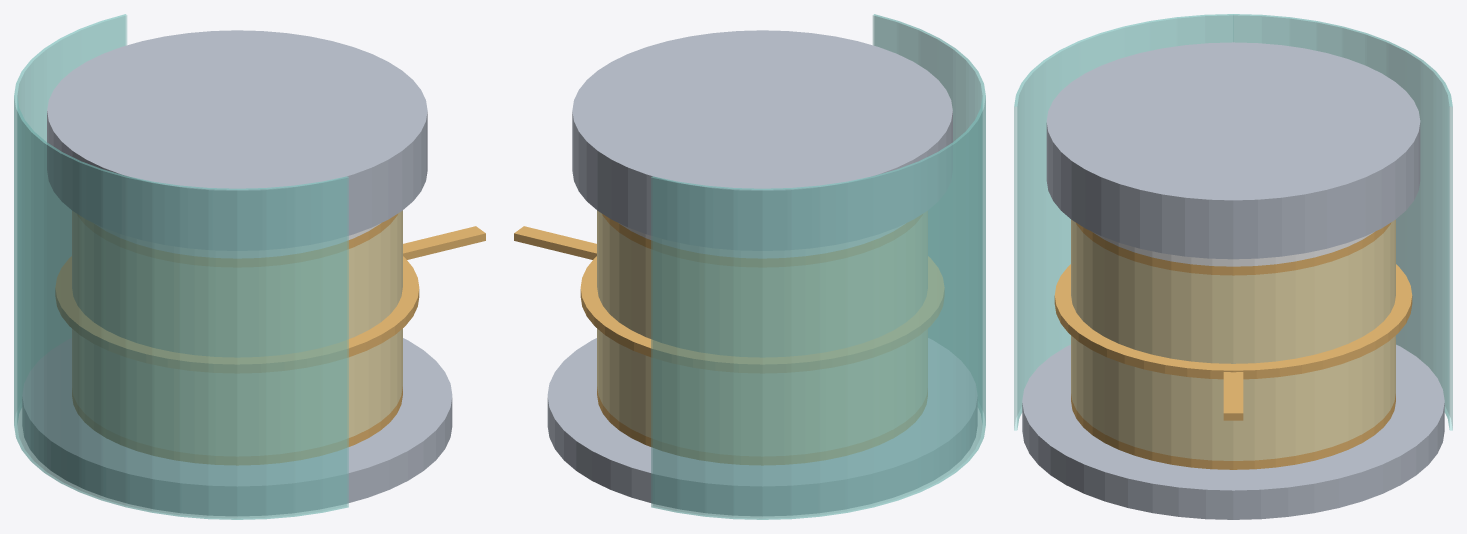
File: piezo_sensor.glb
The picture shows the model from 3 angles, left to right: view 1: azimuth 30°, elevation 25°; view 2: azimuth 150°, elevation 25°; view 3: azimuth 270°, elevation 25°; orthographic projection.
Visible parts, largest first — view 1: housing_half, seismic_mass, piezo_disc_2, base, piezo_disc_1, centre_electrode, bottom_electrode, top_electrode, insulator, output_lead; view 2: housing_half, seismic_mass, piezo_disc_2, base, piezo_disc_1, centre_electrode, bottom_electrode, top_electrode, insulator, output_lead; view 3: seismic_mass, housing_half, piezo_disc_2, base, piezo_disc_1, centre_electrode, bottom_electrode, top_electrode, insulator, output_lead.
Part boxes in pixels (box(x1,y1,x2,y2)): housing_half: box(14, 14, 348, 519); seismic_mass: box(47, 30, 427, 250); piezo_disc_2: box(72, 210, 402, 357); base: box(22, 338, 452, 515); piezo_disc_1: box(72, 328, 402, 456); centre_electrode: box(55, 256, 419, 373); bottom_electrode: box(72, 387, 402, 465); top_electrode: box(77, 214, 397, 267); insulator: box(96, 223, 380, 258); output_lead: box(403, 226, 485, 259); housing_half: box(651, 14, 985, 519); seismic_mass: box(572, 30, 952, 250); piezo_disc_2: box(597, 210, 927, 357); base: box(547, 338, 977, 515); piezo_disc_1: box(597, 328, 927, 456); centre_electrode: box(580, 256, 944, 373); bottom_electrode: box(597, 387, 927, 465); top_electrode: box(602, 214, 922, 267); insulator: box(619, 223, 903, 258); output_lead: box(514, 226, 596, 259); seismic_mass: box(1046, 42, 1420, 259); housing_half: box(1014, 14, 1452, 430); piezo_disc_2: box(1071, 219, 1395, 363); base: box(1022, 344, 1444, 519); piezo_disc_1: box(1071, 335, 1395, 460); centre_electrode: box(1054, 264, 1412, 379); bottom_electrode: box(1071, 394, 1395, 469); top_electrode: box(1075, 222, 1391, 275); insulator: box(1093, 232, 1373, 266); output_lead: box(1223, 372, 1243, 420).
Bounding box in the file's own units: 0.305 × 0.22 × 0.27.
